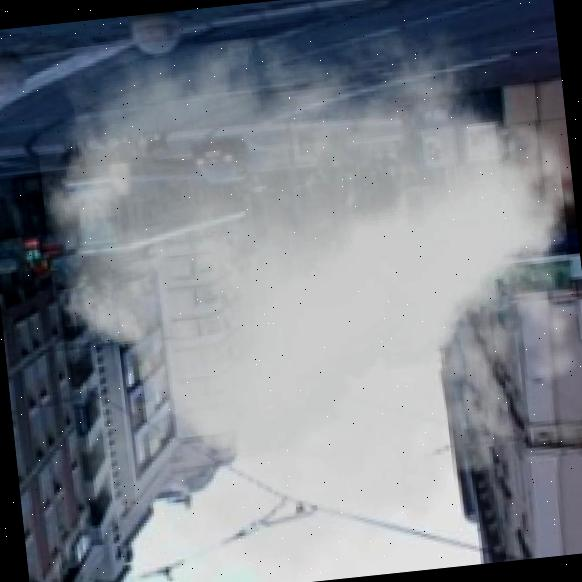smoke: (29, 6, 582, 582)
